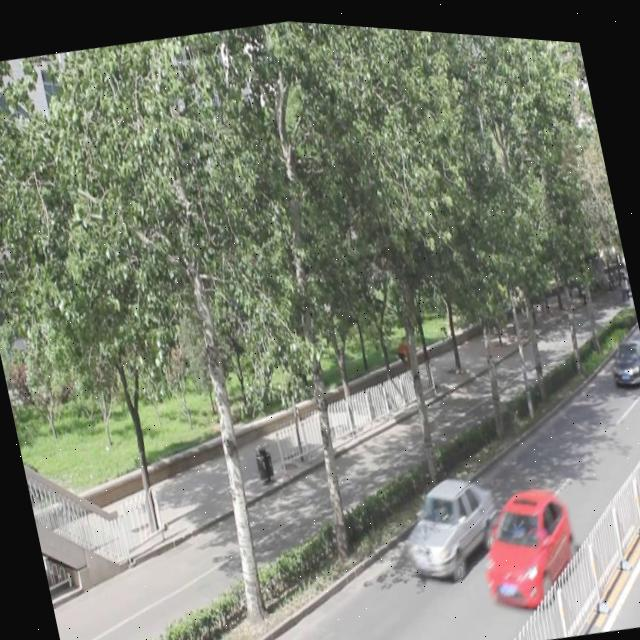car: (467, 467, 584, 612), (396, 458, 506, 580), (605, 322, 640, 379)
